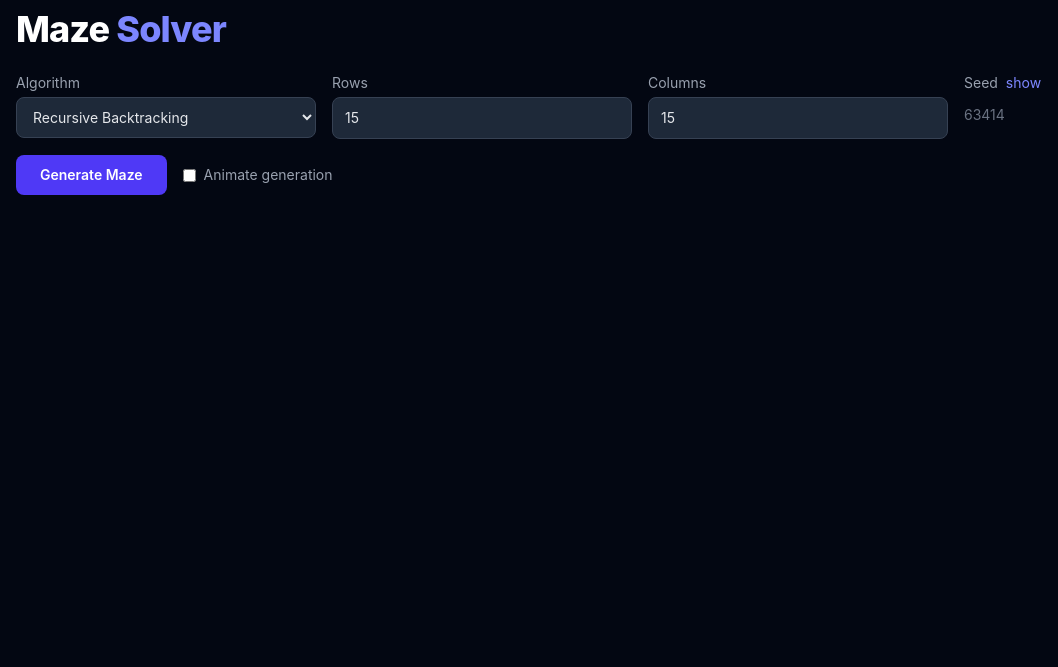
Test: MazeSolver › shows loading skeleton while generating
Click the button "Generate Maze" at (91, 175), box [16,155,167,195]
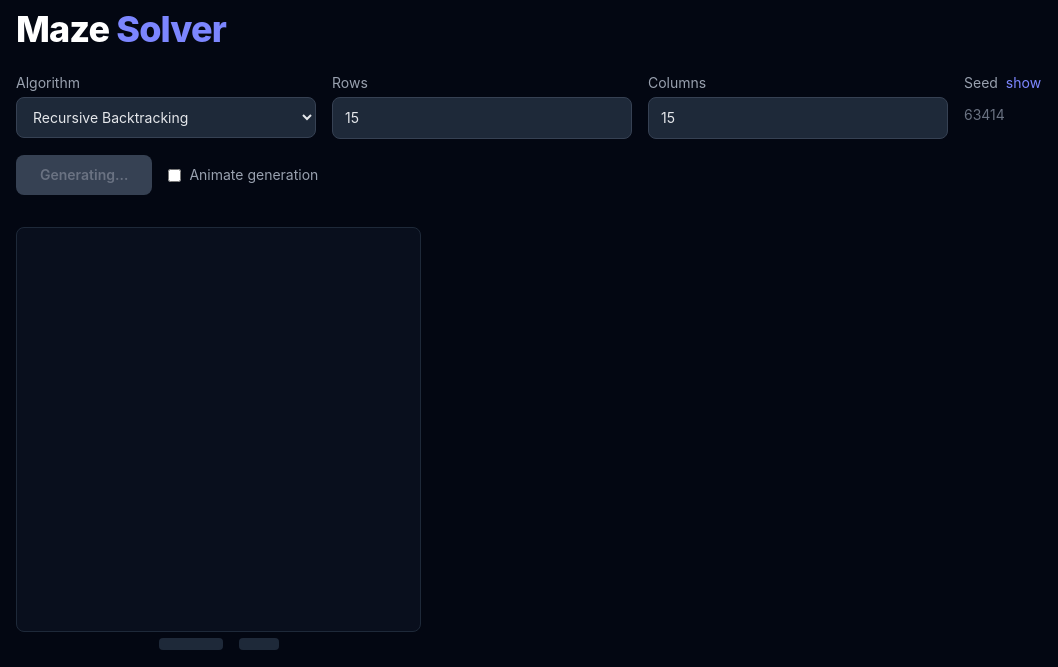
expect the 1st element with class "animate-pulse" is shown: met, box [16,227,421,632]
expect the button "Generating…" is disabled: met, box [16,155,152,195]
